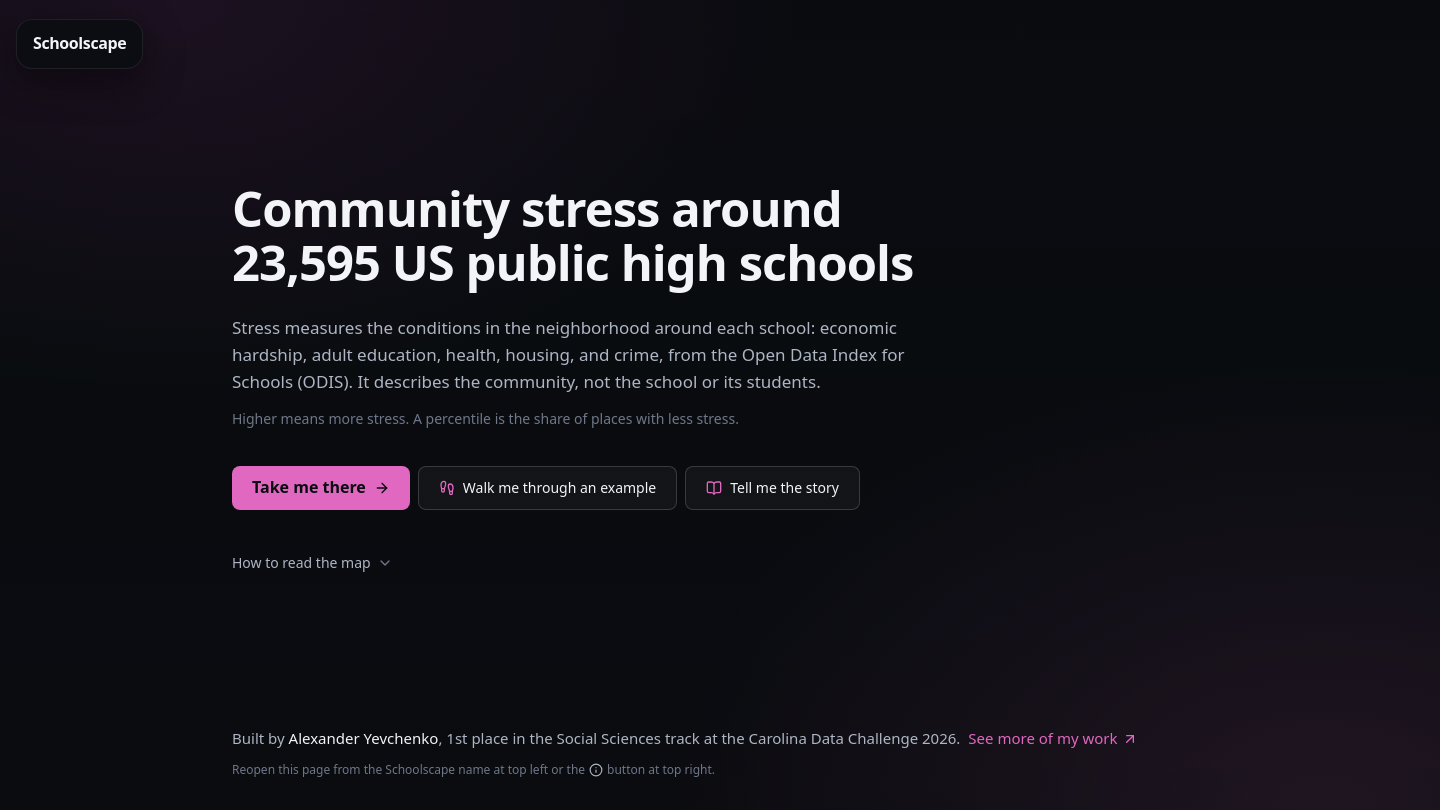
it: Primer (SPEC.md 3.15) › keeps the guide to reading the map behind a disclosure
The width and height of the screenshot is (1440, 810).
Click the button "How to read the map" at (312, 563), box [224,550,401,577]
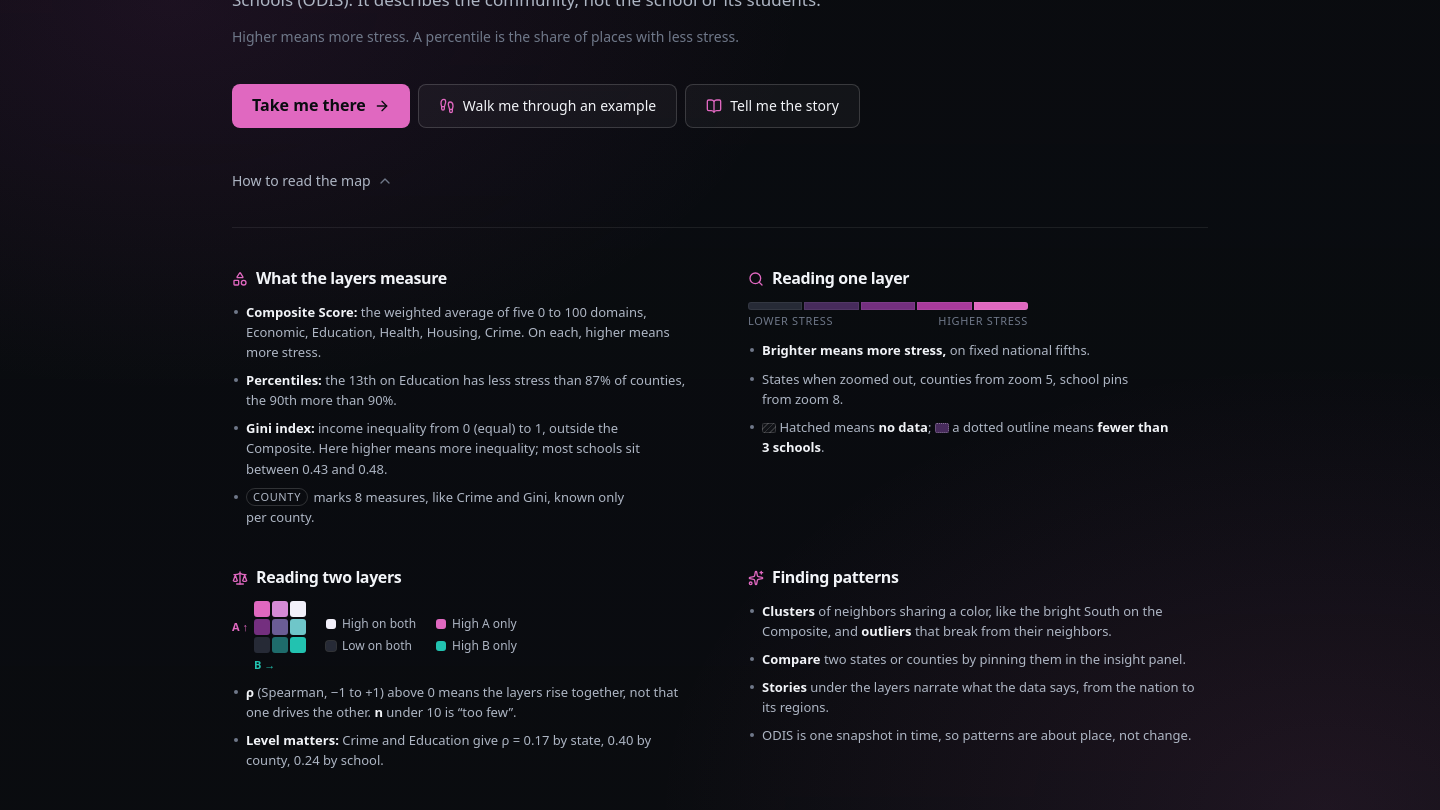
Expected: the button "How to read the map" is expanded, [224,168,401,195]
Expected: the heading "What the layers measure" is shown, [232,267,447,289]
Expected: the heading "Reading one layer" is shown, [748,267,909,289]
